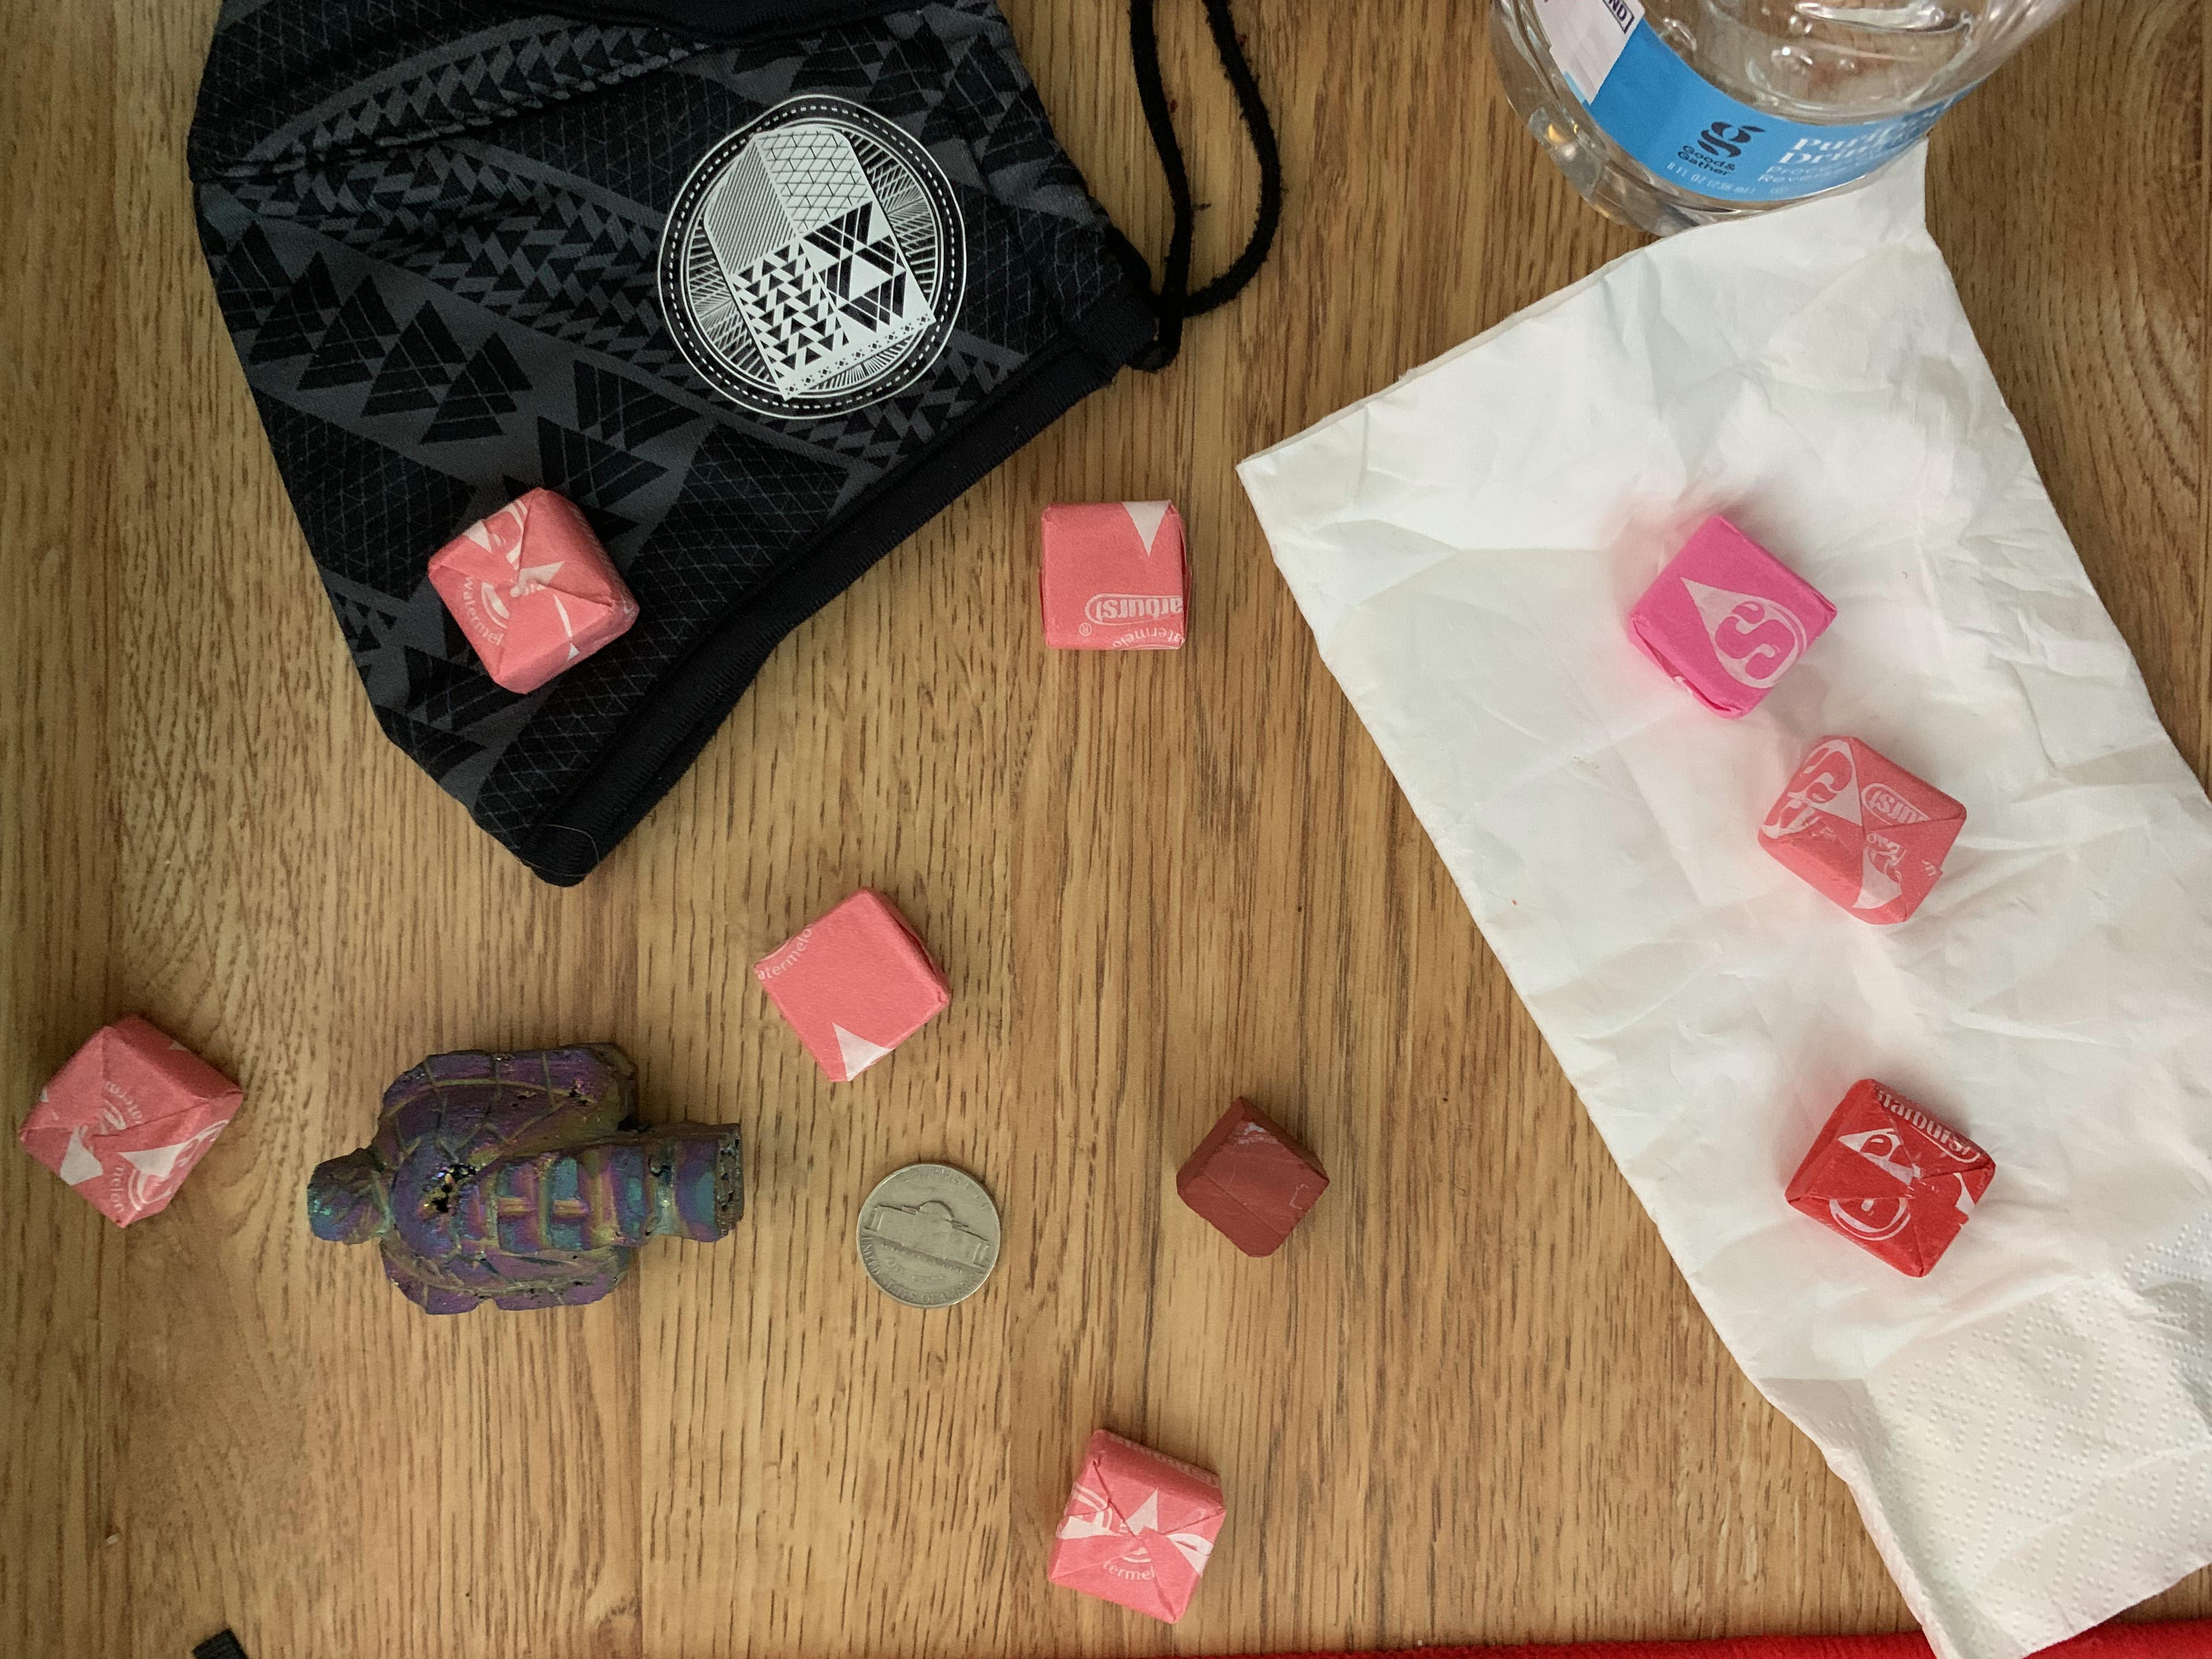Nickel: (850, 1155, 1010, 1316)
